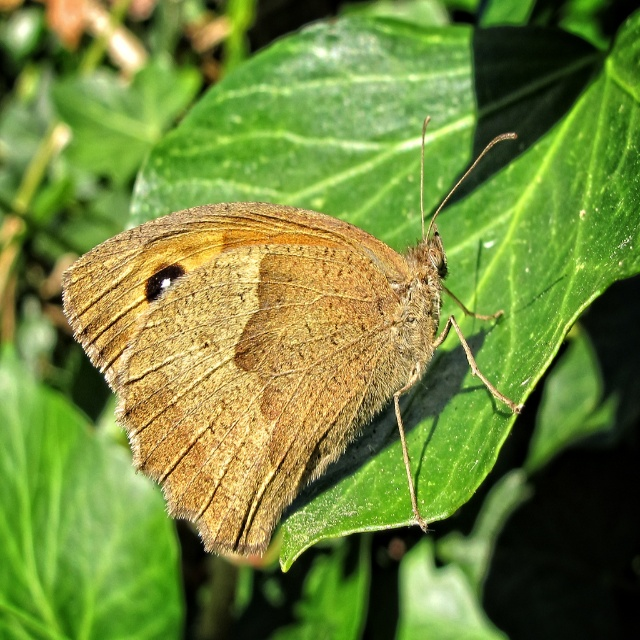Butterfly: (63, 84, 528, 559)
